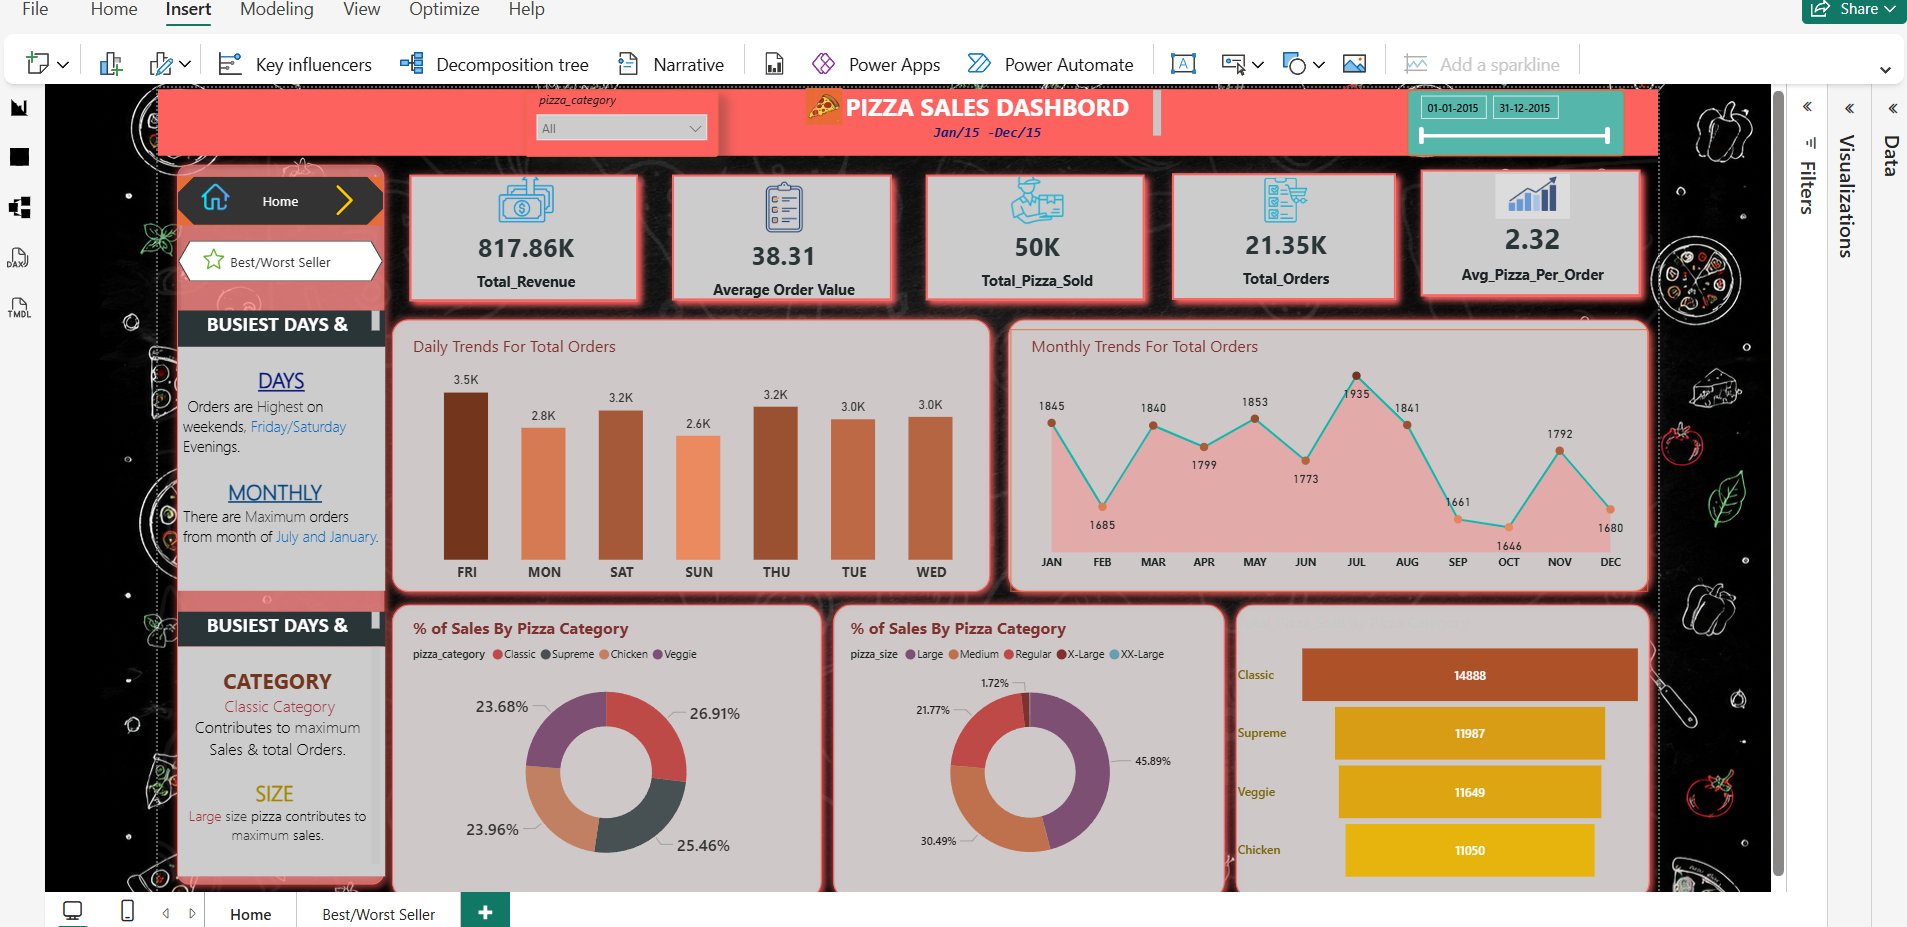

This screenshot's page, from the dashboard's own definition file:
{"tool":"powerbi","page":{"name":"Home","canvas":[1500,820],"ordinal":0},"visuals":[{"type":"shape","box":[10,67.5,225.3,738.1],"z":0},{"type":"shape","box":[0,1.4,1500.3,66.6],"z":1000},{"type":"image","box":[641,0,49,42],"z":2000},{"type":"textbox","box":[657,1,352,55],"z":3000},{"type":"shape","box":[225.3,222.4,616.3,290.4],"z":4000},{"type":"columnChart","title":"Daily Trends For Total Orders","fields":{"Category":["pizza_db pizza_data.Order_Day"],"Y":["pizza_db pizza_data.Total_Orders"]},"box":[235.2,240.8,597.9,262.1],"z":5000},{"type":"shape","box":[841.5,222.4,658.8,290.4],"z":6000},{"type":"areaChart","title":"Monthly Trends For Total Orders","fields":{"Category":["pizza_db pizza_data.Order_Month"],"Y":["pizza_db pizza_data.Total_Orders"]},"box":[852.9,240.8,637.5,262.1],"z":7000},{"type":"shape","box":[225.3,507.2,447.7,313.1],"z":8000},{"type":"shape","box":[665.9,507.2,409.4,313.1],"z":9000},{"type":"shape","box":[1068.2,507.2,432.1,313.1],"z":10000},{"type":"donutChart","title":"% of Sales By Pizza Category","fields":{"Category":["pizza_db pizza_data.pizza_category"],"Y":["pizza_db pizza_data.Total_Revenue"]},"box":[235.2,524.2,422.2,281.9],"z":11000},{"type":"textbox","box":[19.8,222.4,206.8,36.8],"z":12000},{"type":"donutChart","title":"% of Sales By Pizza Category","fields":{"Category":["pizza_db pizza_data.pizza_size"],"Y":["pizza_db pizza_data.Total_Revenue"]},"box":[672.9,524.2,395.3,281.9],"z":13000},{"type":"funnel","title":"Total_Pizza_Sold By Pizza Category","fields":{"Category":["pizza_db pizza_data.pizza_category"],"Y":["pizza_db pizza_data.Total_Pizza_Sold"]},"box":[1075.3,524.2,415.1,281.9],"z":14000},{"type":"textbox","box":[19.8,259.3,206.8,243.7],"z":15000},{"type":"textbox","box":[19.8,558.2,206.8,229.5],"z":16000},{"type":"textbox","box":[19.8,524.2,206.8,34],"z":17000},{"type":"slicer","fields":{"Values":["pizza_db pizza_data.pizza_category"]},"box":[366.9,2.8,192.7,66.6],"z":18000},{"type":"slicer","fields":{"Values":["pizza_db pizza_data.order_date"]},"box":[1249,1,218,67],"z":19000},{"type":"cardVisual","fields":{"Data":["pizza_db pizza_data.Total_Revenue"]},"box":[235.2,75.1,262.1,155.8],"z":19001},{"type":"cardVisual","fields":{"Data":["pizza_db pizza_data.Average Order Value"]},"box":[497.3,75.1,253.6,154.4],"z":19002},{"type":"cardVisual","fields":{"Data":["pizza_db pizza_data.Total_Pizza_Sold"]},"box":[750.9,75.1,252.2,154.4],"z":19003},{"type":"cardVisual","fields":{"Data":["pizza_db pizza_data.Total_Orders"]},"box":[997.4,73.7,257.8,155.8],"z":19004},{"type":"cardVisual","fields":{"Data":["pizza_db pizza_data.Avg_Pizza_Per_Order"]},"box":[1246.7,69.4,253.6,155.8],"z":19005},{"type":"pageNavigator","box":[20,88.8,205,48.8],"z":19006},{"type":"pageNavigator","box":[20,152.5,205,41.2],"z":19007},{"type":"image","box":[166.2,95,41.2,38.8],"z":19008},{"type":"image","box":[38.8,88.8,37.5,45],"z":19009},{"type":"image","box":[35,160,41.2,26.2],"z":19010}]}

Visuals, with their boxes on the page's 1500x820 design canvas (x1, y1, x2, y2). These are canvas units, not pixel positions in the 1907x927 screenshot, which may show the page scaled, cropped or inside an application window:
shape: box(10, 68, 235, 806)
shape: box(0, 1, 1500, 68)
image: box(641, 0, 690, 42)
textbox: box(657, 1, 1009, 56)
shape: box(225, 222, 842, 513)
"Daily Trends For Total Orders" columnChart: box(235, 241, 833, 503)
shape: box(842, 222, 1500, 513)
"Monthly Trends For Total Orders" areaChart: box(853, 241, 1490, 503)
shape: box(225, 507, 673, 820)
shape: box(666, 507, 1075, 820)
shape: box(1068, 507, 1500, 820)
"% of Sales By Pizza Category" donutChart: box(235, 524, 657, 806)
textbox: box(20, 222, 227, 259)
"% of Sales By Pizza Category" donutChart: box(673, 524, 1068, 806)
"Total_Pizza_Sold By Pizza Category" funnel: box(1075, 524, 1490, 806)
textbox: box(20, 259, 227, 503)
textbox: box(20, 558, 227, 788)
textbox: box(20, 524, 227, 558)
slicer - pizza_db pizza_data.pizza_category: box(367, 3, 560, 69)
slicer - pizza_db pizza_data.order_date: box(1249, 1, 1467, 68)
cardVisual - pizza_db pizza_data.Total_Revenue: box(235, 75, 497, 231)
cardVisual - pizza_db pizza_data.Average Order Value: box(497, 75, 751, 230)
cardVisual - pizza_db pizza_data.Total_Pizza_Sold: box(751, 75, 1003, 230)
cardVisual - pizza_db pizza_data.Total_Orders: box(997, 74, 1255, 230)
cardVisual - pizza_db pizza_data.Avg_Pizza_Per_Order: box(1247, 69, 1500, 225)
pageNavigator: box(20, 89, 225, 138)
pageNavigator: box(20, 152, 225, 194)
image: box(166, 95, 207, 134)
image: box(39, 89, 76, 134)
image: box(35, 160, 76, 186)
